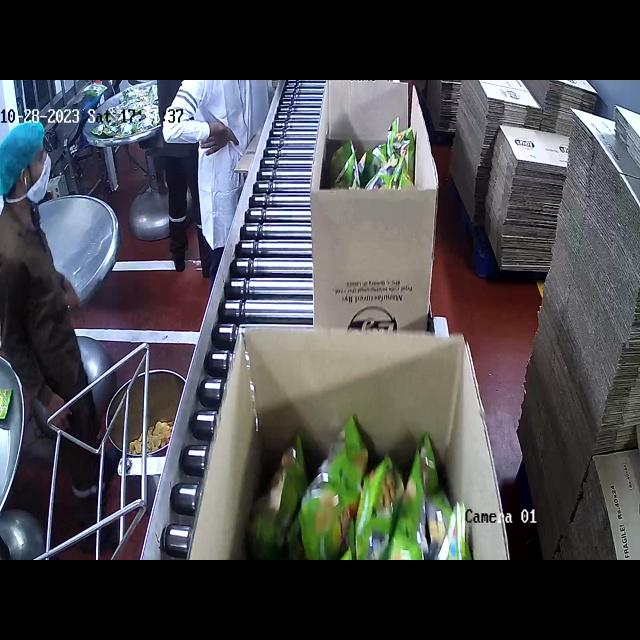yogurt: (263, 418, 461, 560), (339, 134, 436, 194)
